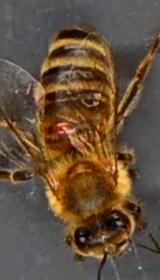varroa_mite: (51, 113, 79, 135)
